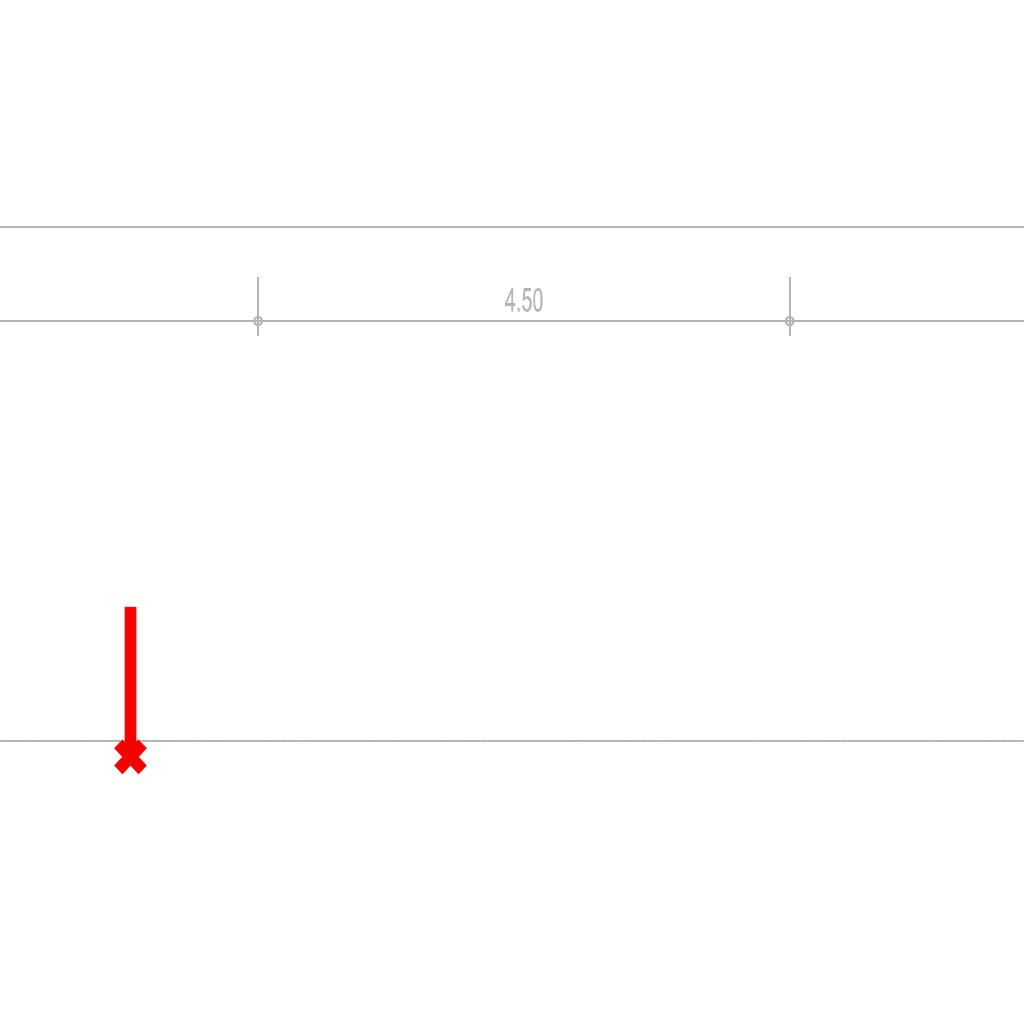ASR_Ansaugoeffnung: (105, 601, 151, 777)
